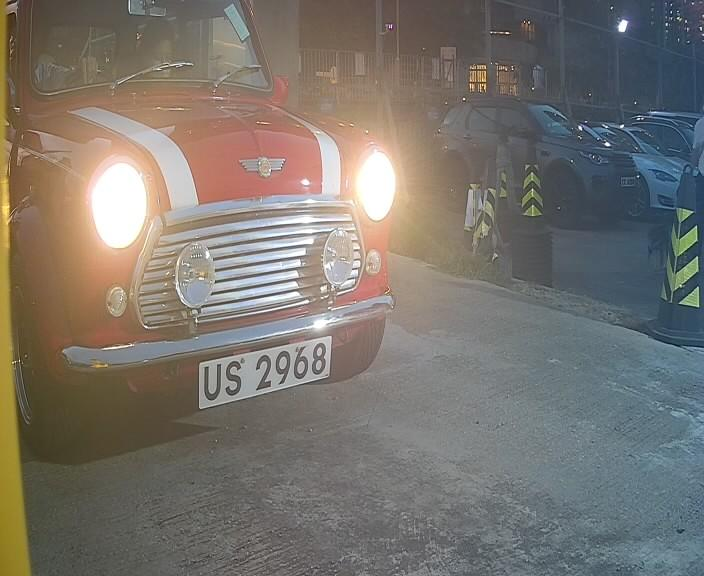License Plate: (189, 326, 339, 420)
